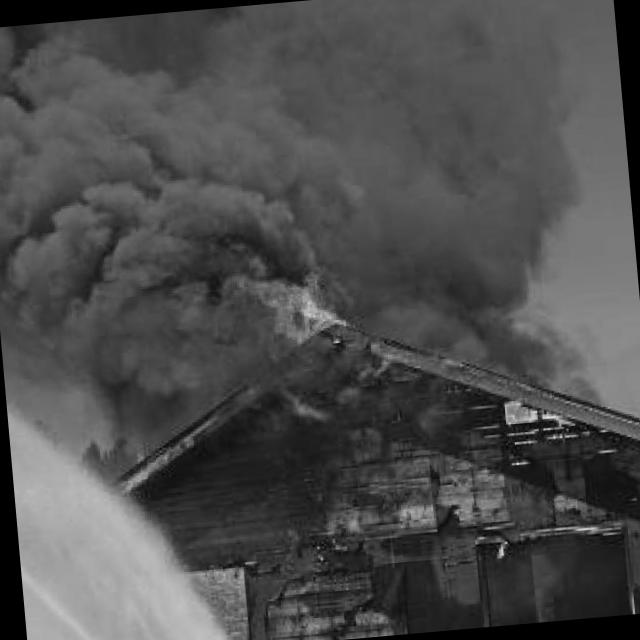fire: (153, 174, 425, 416), (496, 383, 588, 436)
smoke: (0, 0, 580, 325)
